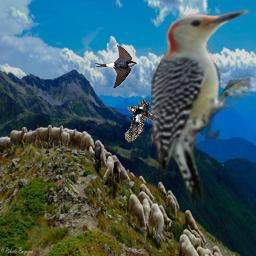Swallow: (95, 45, 137, 88)
Woodpecker: (151, 6, 253, 210), (124, 99, 155, 143)
